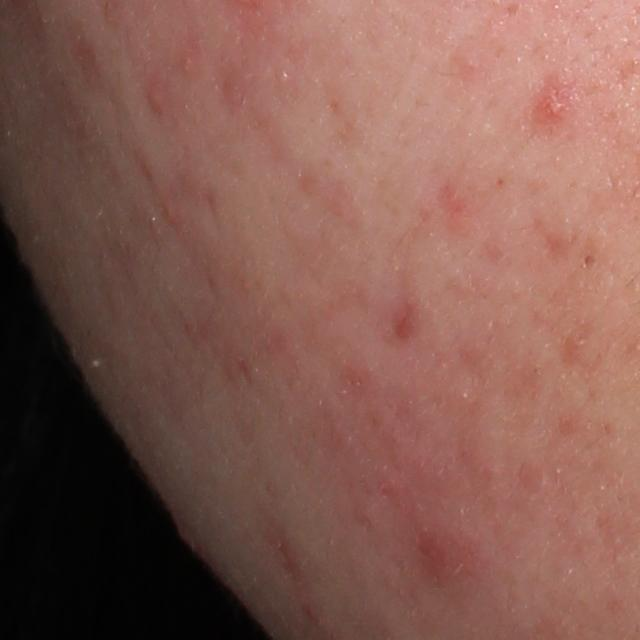comedo: (580, 253, 598, 270)
papule: (411, 512, 490, 594), (535, 85, 573, 128), (146, 83, 165, 112), (162, 200, 180, 223)
